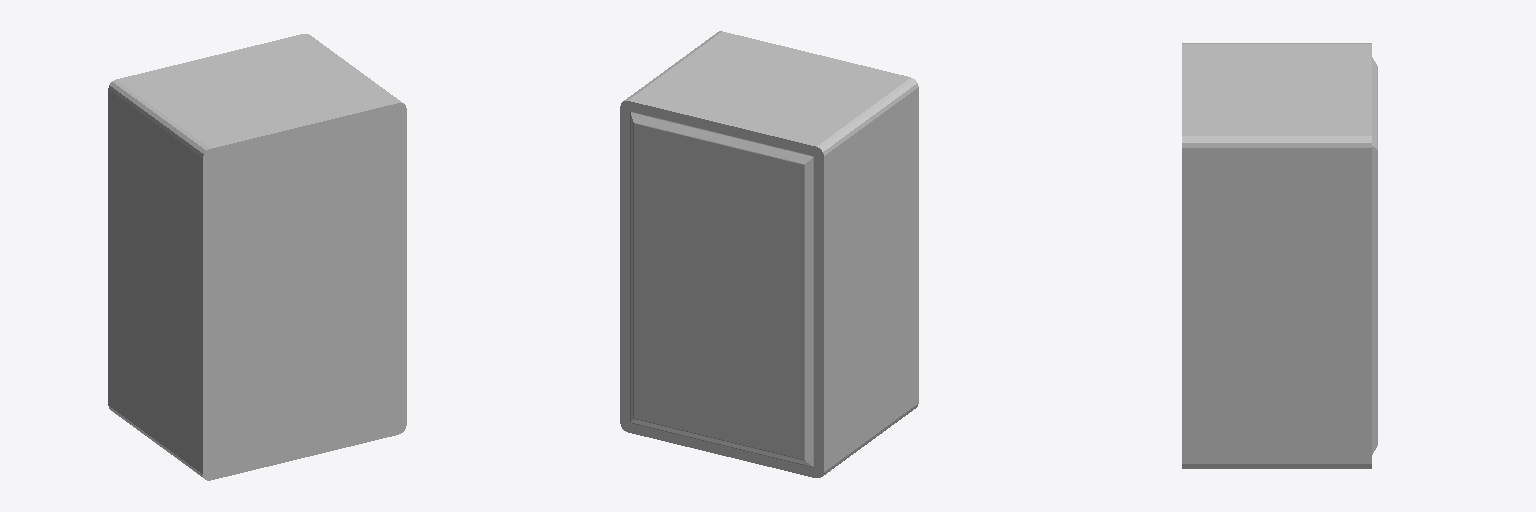
Rendered from metalBox.obj.
3 renders of one model, left to right at view 1: azimuth 30°, elevation 25°; view 2: azimuth 150°, elevation 25°; view 3: azimuth 270°, elevation 25°, orthographic.
Parts seen in each view (by area): view 1: Cube.004; view 2: Cube.004; view 3: Cube.004.
Boxes of the visible parts, box(x1,y1,x2,y2) form: Cube.004: box(108, 34, 406, 480); Cube.004: box(620, 31, 918, 477); Cube.004: box(1182, 43, 1377, 468).
Size of the model in its own units: 0.6526 by 1.02 by 0.542.